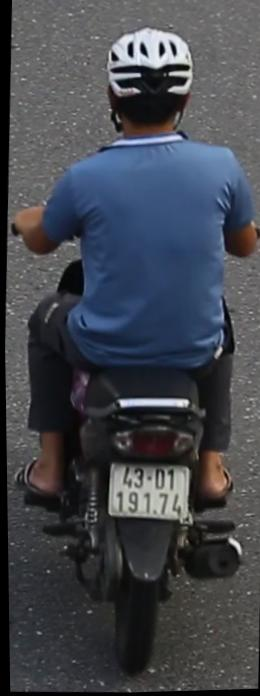LP: (99, 456, 193, 530)
helmet: (99, 18, 200, 162)
